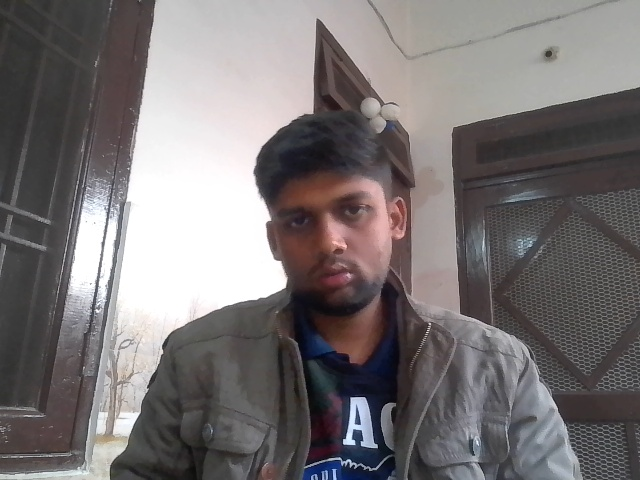No: (188, 397, 401, 480)
